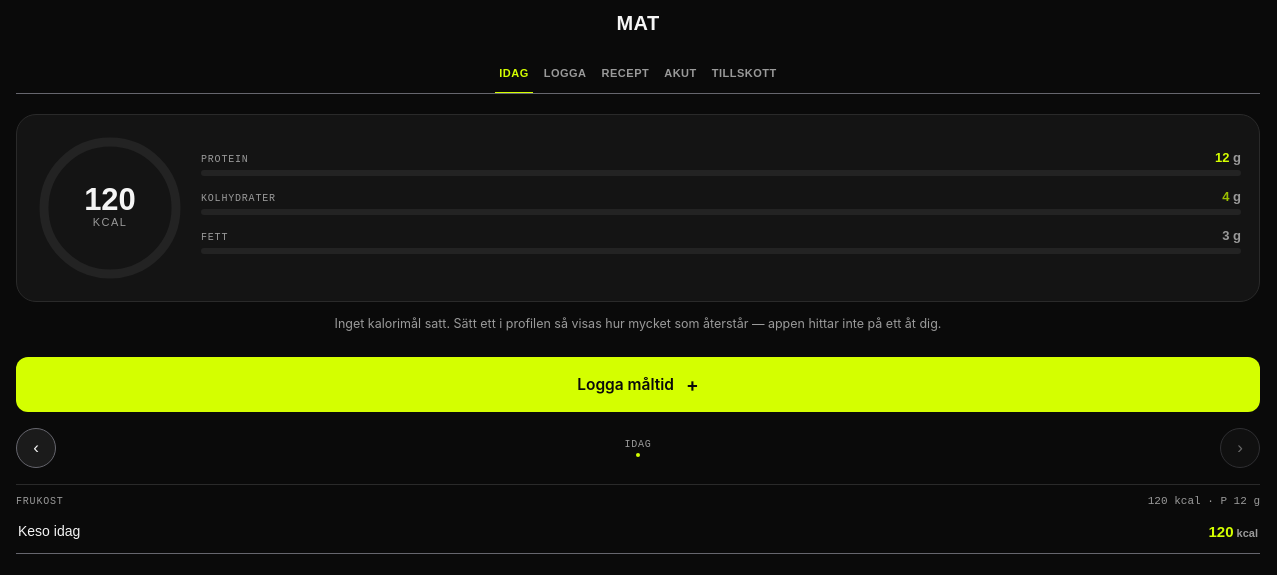
matvyn: dagsväljare och flytt › vägen tillbaka till idag finns och syns bara när man är borta
Click the button "‹" at coordinates (36, 448), box [16, 428, 56, 468]
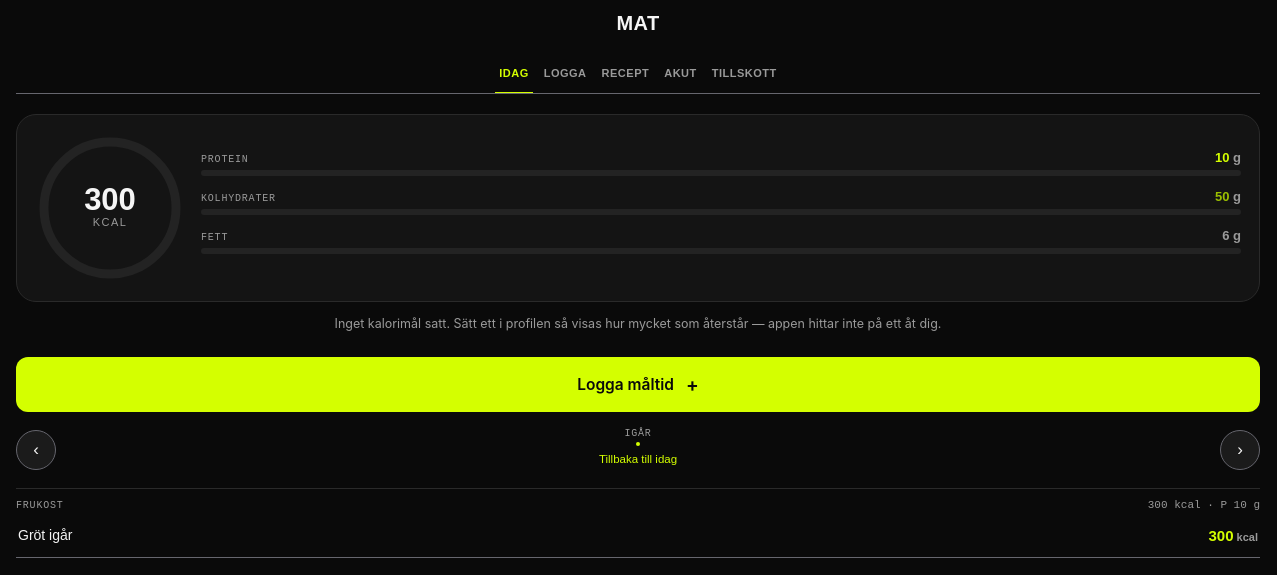
Now the button "Tillbaka till idag" is shown
Click the button "Tillbaka till idag" at coordinates (638, 459), box [591, 446, 685, 472]
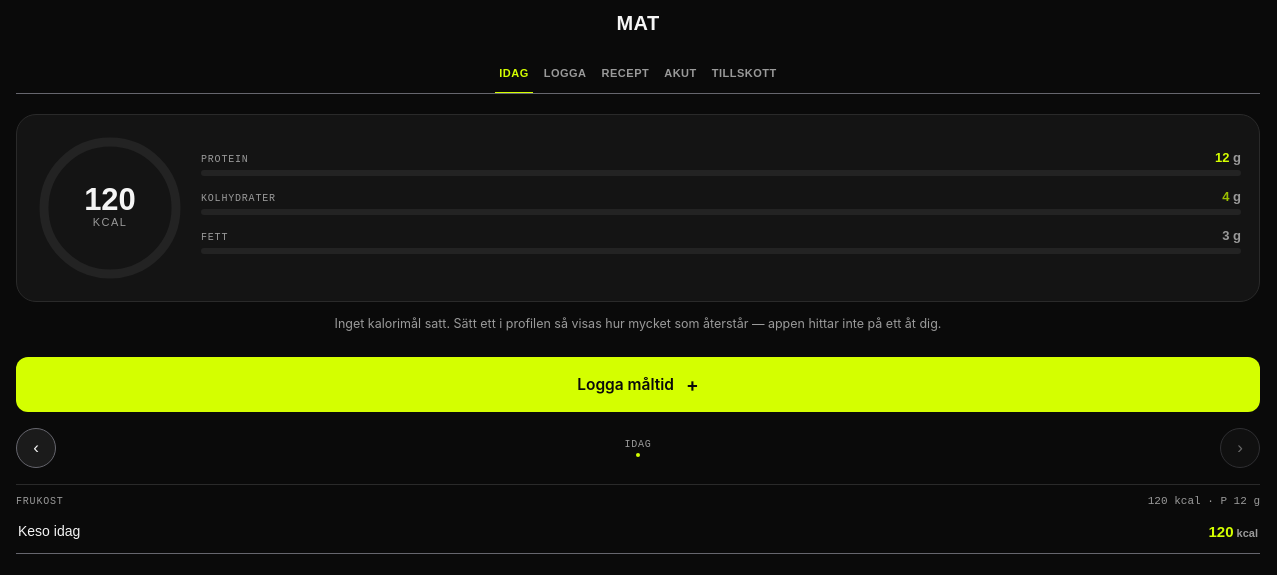
Now the text "Idag" is shown, box [624, 439, 652, 450]
